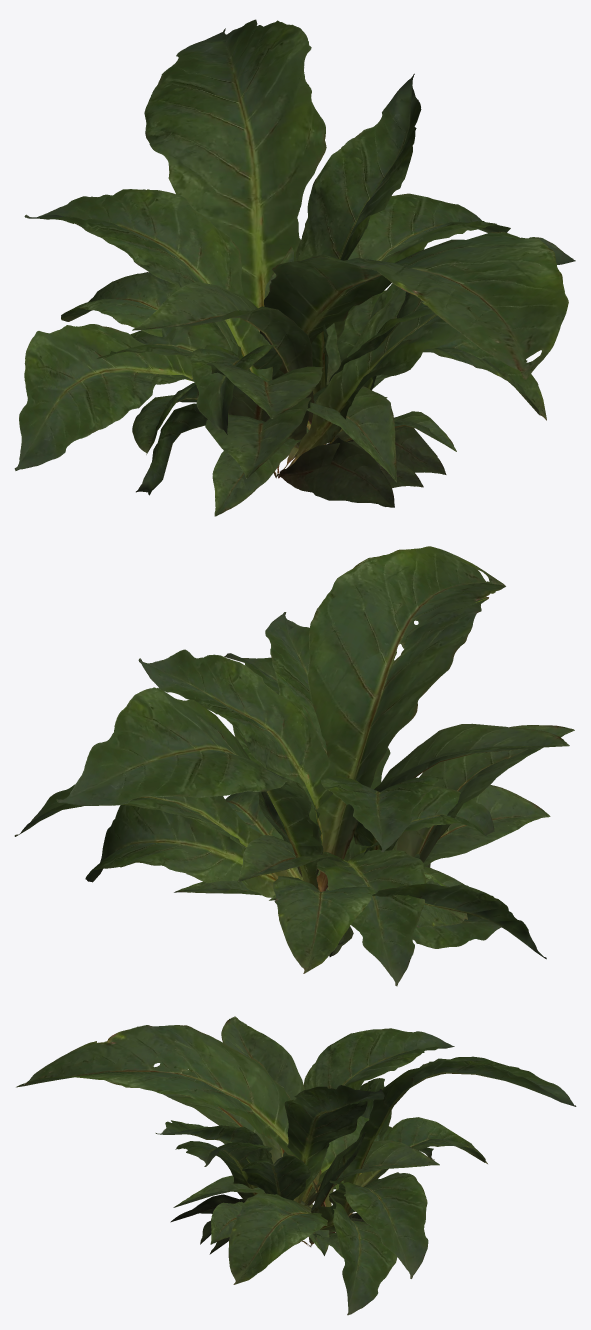
File: anthurium_botany_01.glb
3 views of the same model, one above another, from view 1: azimuth 30°, elevation 25°; view 2: azimuth 150°, elevation 25°; view 3: azimuth 270°, elevation 25° (orthographic). The views are drawn at different scales.
Visible parts, largest first — view 1: a, b, c, d; view 2: a, b, c, d; view 3: a, b, c, d.
Part boxes in pixels (x1=…): a: x1=14, y1=19, x2=568, y2=482; b: x1=97, y1=73, x2=575, y2=507; c: x1=24, y1=189, x2=573, y2=492; d: x1=212, y1=238, x2=446, y2=516; a: x1=14, y1=546, x2=546, y2=973; b: x1=85, y1=612, x2=569, y2=986; c: x1=224, y1=653, x2=574, y2=890; d: x1=174, y1=725, x2=464, y2=956; a: x1=16, y1=1025, x2=576, y2=1284; b: x1=155, y1=1016, x2=434, y2=1315; c: x1=162, y1=1028, x2=454, y2=1255; d: x1=209, y1=1132, x2=365, y2=1258.
Bounding box in the file's own units: 0.894 × 0.4981 × 1.14.
Materials: 1 (1 with a texture image).
